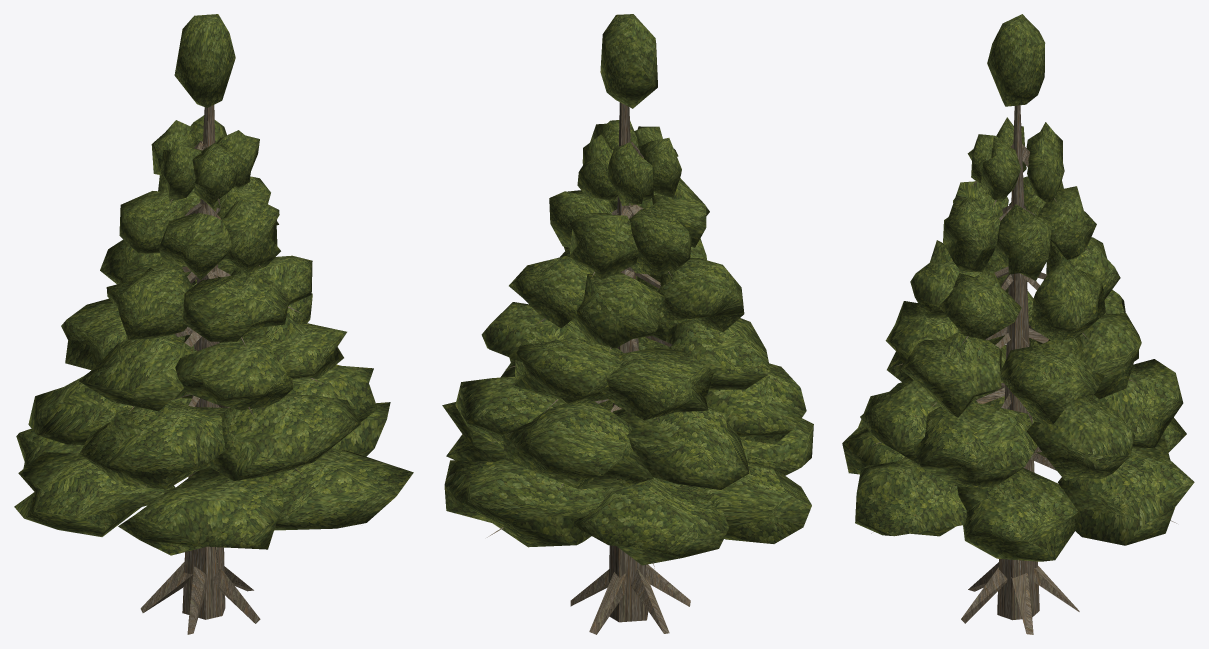
The model's file is tree_pine_a.gltf.
3 views of the same model, side by side, from view 1: azimuth 30°, elevation 25°; view 2: azimuth 150°, elevation 25°; view 3: azimuth 270°, elevation 25° (orthographic).
Parts seen in each view (by area): view 1: tree_pine_a_game; view 2: tree_pine_a_game; view 3: tree_pine_a_game.
Part boxes in pixels (<box>): tree_pine_a_game: <box>14,14,413,634</box>; tree_pine_a_game: <box>442,14,813,634</box>; tree_pine_a_game: <box>842,14,1194,634</box>.
Size of the model in its own units: 0.3376 by 0.5292 by 0.2846.
Materials: 2 (2 with a texture image).
